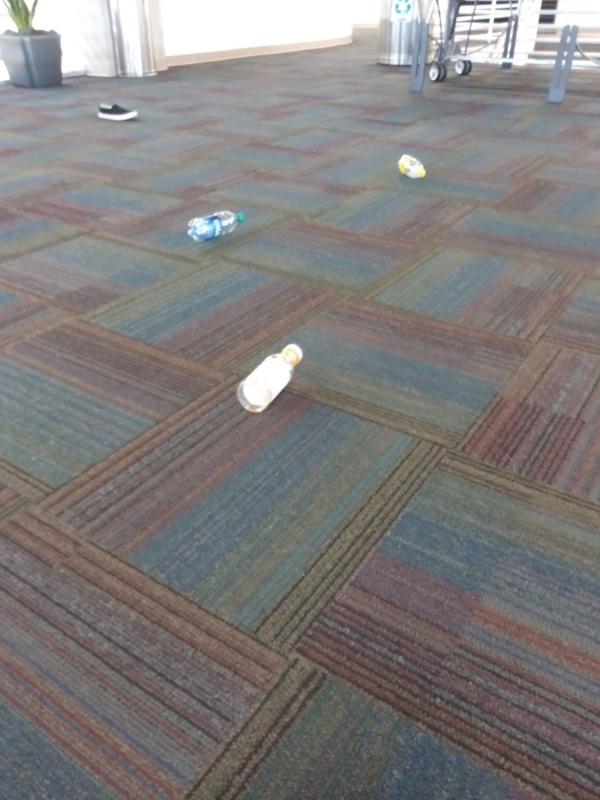bottle: (234, 339, 306, 418), (182, 207, 249, 243), (392, 153, 431, 184)
